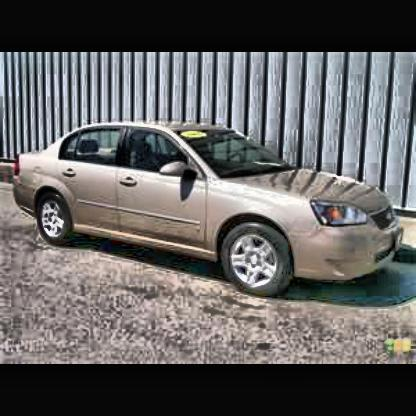Chevrolet Malibu Sedan 2007: (3, 111, 414, 321)
